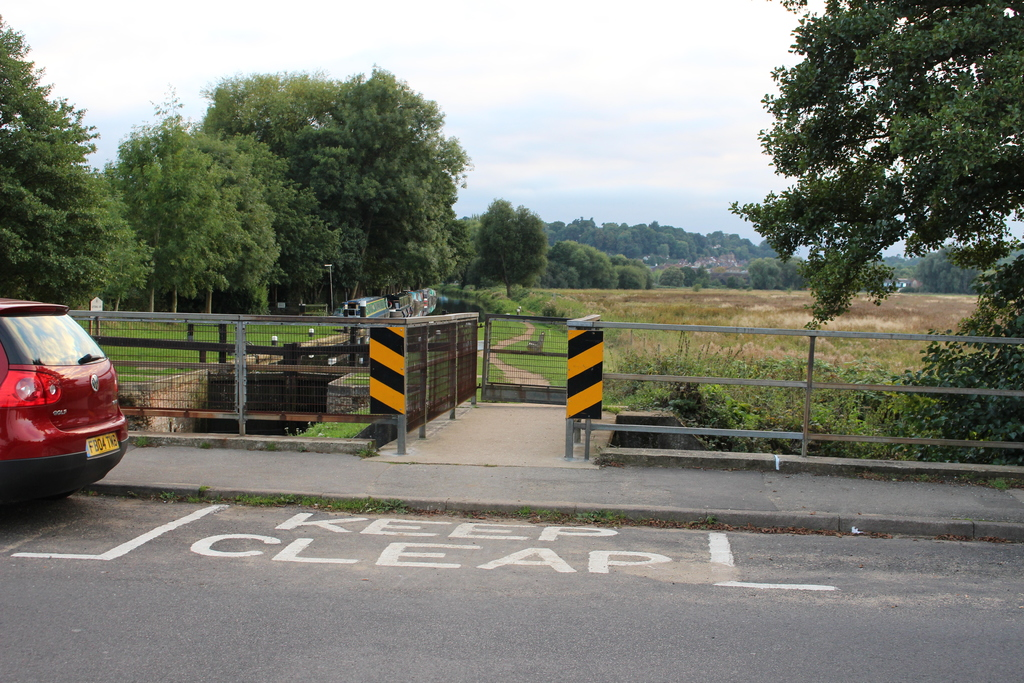cars: (0, 298, 128, 504)
